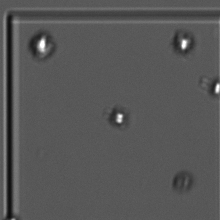Dead Cell: (168, 167, 197, 196)
Living Cell: (27, 28, 62, 63), (170, 26, 200, 56), (104, 102, 133, 131)
